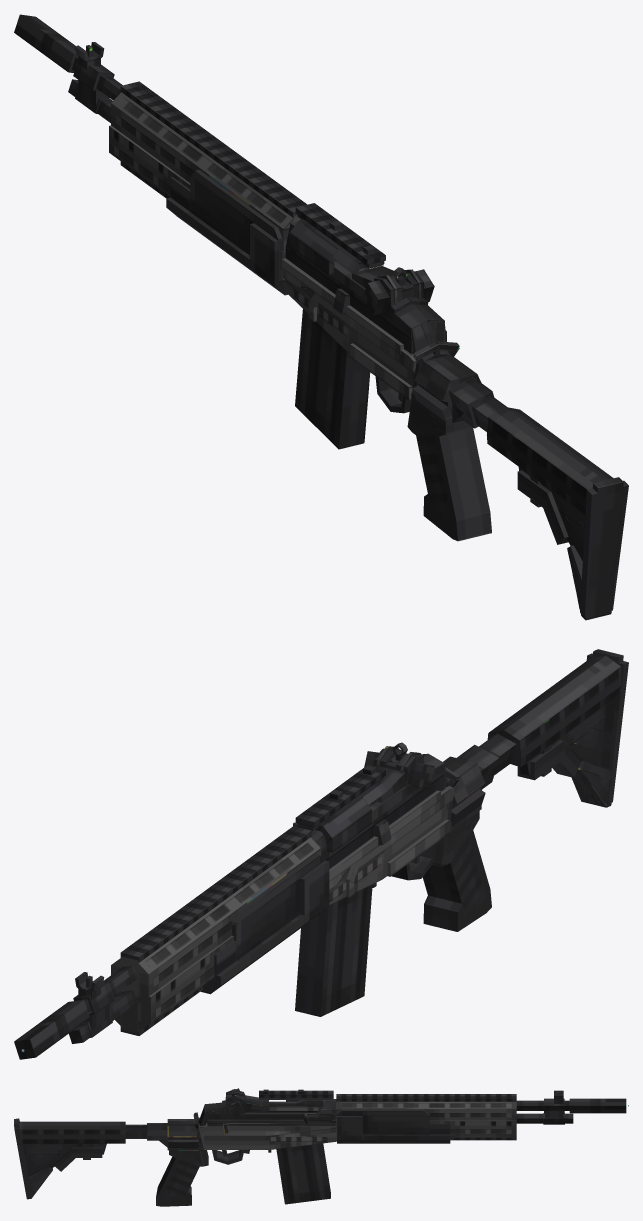
File: mk14ebr.fbx
3 renders of one model, top to bottom at view 1: azimuth 30°, elevation 25°; view 2: azimuth 150°, elevation 25°; view 3: azimuth 270°, elevation 25°, orthographic. The views are drawn at different scales.
Parts seen in each view (by area): view 1: gun, magazine, rail; view 2: gun, magazine, rail; view 3: gun, magazine, rail, action, action2.
Part boxes in pixels (box(x1,y1,x2,y2)): gun: box(14, 14, 628, 620); magazine: box(295, 309, 370, 449); rail: box(289, 203, 385, 275); gun: box(14, 649, 628, 1059); magazine: box(295, 884, 372, 1016); rail: box(295, 766, 387, 852); gun: box(14, 1088, 626, 1206); magazine: box(276, 1143, 330, 1204); rail: box(259, 1090, 333, 1101); action: box(261, 1106, 323, 1112); action2: box(304, 1109, 331, 1124).
Bounding box in the file's own units: 47.44 × 151 × 746.
